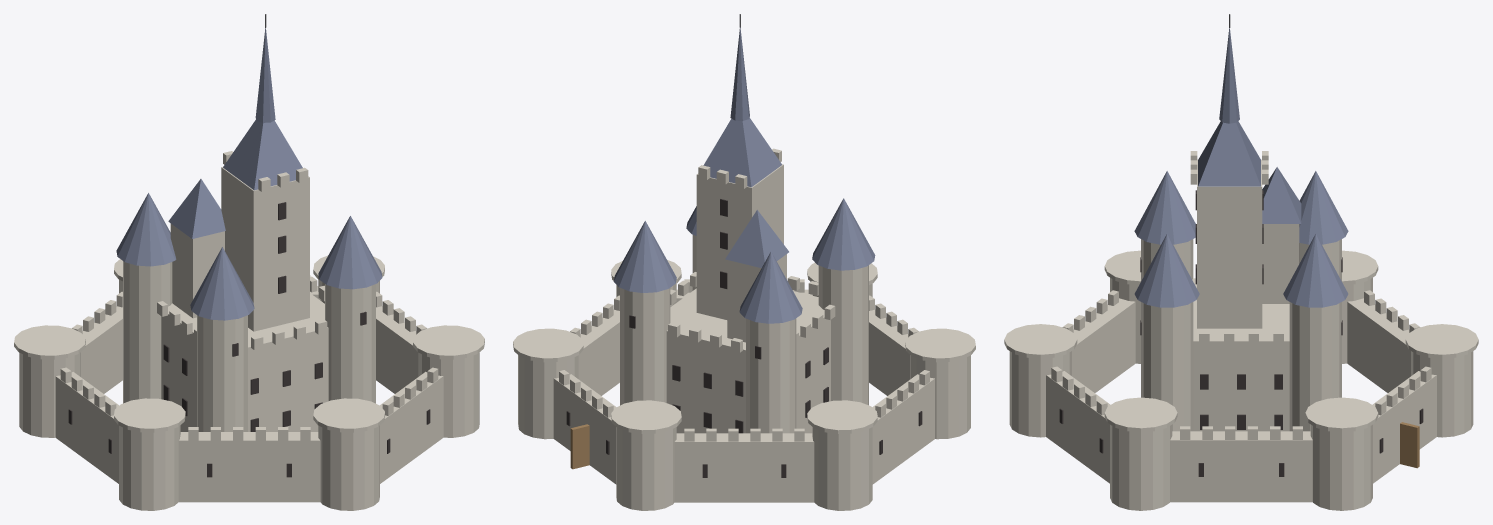
File: DreadholdCastle.fbx
3 renders of one model, left to right at view 1: azimuth 30°, elevation 25°; view 2: azimuth 150°, elevation 25°; view 3: azimuth 270°, elevation 25°, orthographic. The views are drawn at different scales.
Visible parts, largest first — view 1: Castle; view 2: Castle; view 3: Castle.
Boxes of the visible parts, x1,y1,x2,y2 form: Castle: (14, 14, 484, 510); Castle: (513, 14, 975, 510); Castle: (1004, 14, 1478, 510).
Bounding box in the file's own units: 28.28 × 30.8 × 31.9.
